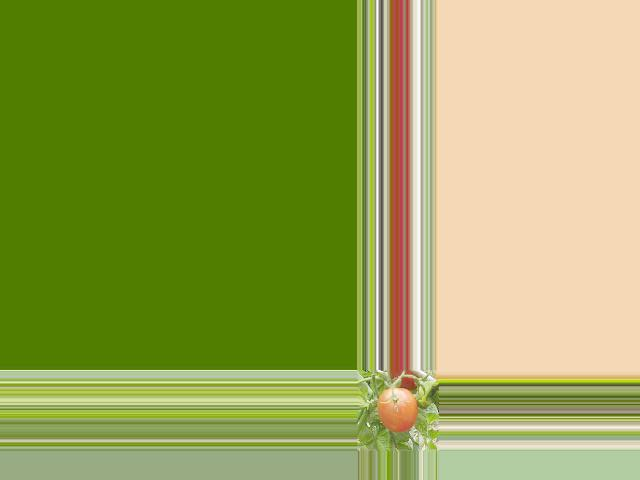tomato: (377, 387, 416, 431)
